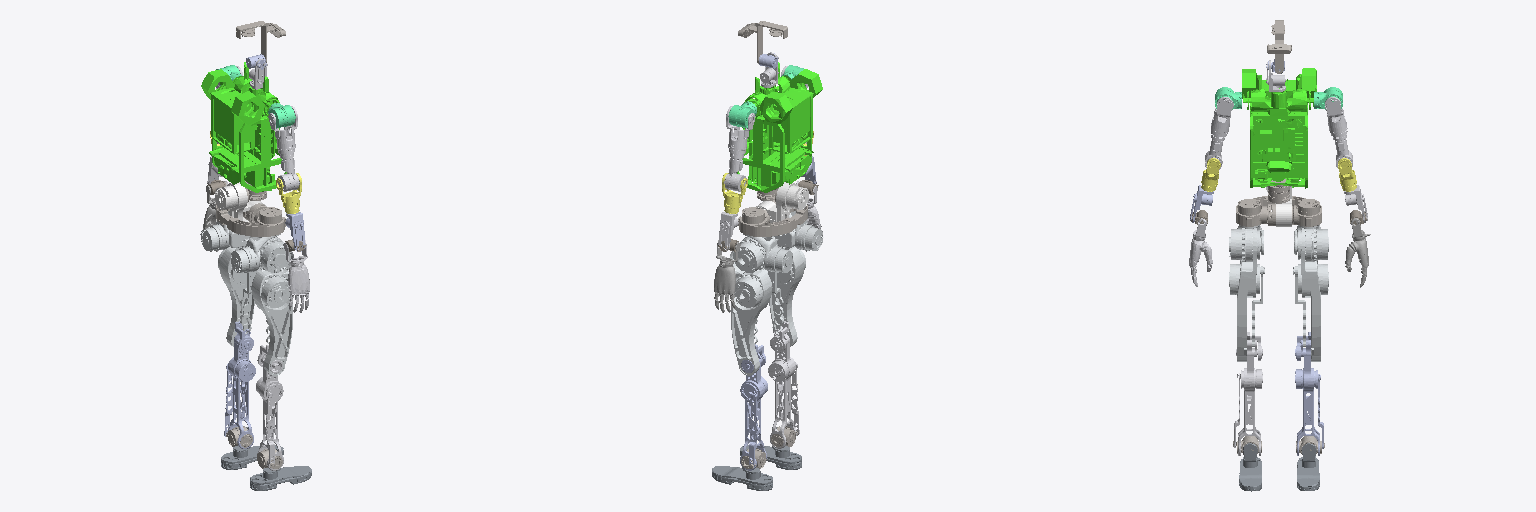
--- Render facts (derived) ---
Views: 3 orthographic renders of the robot side by side, from view 1: azimuth 30°, elevation 25°; view 2: azimuth 150°, elevation 25°; view 3: azimuth 270°, elevation 25°.
Model ti5_t170a with 34 links and 33 joints (12 revolute, 21 fixed), rooted at base, posed all joints at 0.
Visible links, largest first — view 1: Link_x3, Link_r3, Link_l4, Link_r4, Link_l3, base_link, Link_sr7, Link_r6, Link_x1, Link_r2, Link_r1, Link_l6 (+3 smaller); view 2: Link_x3, Link_l3, Link_r4, Link_l4, Link_r3, base_link, Link_x1, Link_sl7, Link_l6, Link_l2, Link_l1, Link_r1 (+3 smaller); view 3: Link_x3, Link_l3, Link_r3, base_link, Link_l4, Link_r4, Link_l2, Link_r2, Link_r6, Link_l6, Link_sl7, Link_sr7 (+3 smaller).
Boxes of the visible links, left/top/right/bottom form: Link_x3: left=201, top=62, right=286, bottom=192; Link_r3: left=251, top=237, right=292, bottom=375; Link_l4: left=224, top=321, right=255, bottom=448; Link_r4: left=256, top=345, right=283, bottom=470; Link_l3: left=218, top=238, right=259, bottom=346; base_link: left=216, top=203, right=285, bottom=236; Link_sr7: left=283, top=240, right=309, bottom=312; Link_r6: left=250, top=449, right=311, bottom=490; Link_x1: left=215, top=182, right=266, bottom=221; Link_r2: left=258, top=237, right=293, bottom=274; Link_r1: left=231, top=234, right=280, bottom=272; Link_l6: left=221, top=427, right=283, bottom=469; Link_x3: left=737, top=62, right=822, bottom=192; Link_l3: left=731, top=237, right=772, bottom=375; Link_r4: left=768, top=321, right=799, bottom=448; Link_l4: left=740, top=344, right=767, bottom=470; Link_r3: left=764, top=238, right=805, bottom=346; base_link: left=738, top=200, right=807, bottom=236; Link_x1: left=756, top=182, right=808, bottom=222; Link_sl7: left=714, top=240, right=740, bottom=312; Link_l6: left=712, top=449, right=772, bottom=490; Link_l2: left=730, top=237, right=765, bottom=274; Link_l1: left=743, top=234, right=792, bottom=272; Link_r1: left=789, top=211, right=823, bottom=250; Link_x3: left=1242, top=68, right=1316, bottom=188; Link_l3: left=1293, top=228, right=1328, bottom=361; Link_r3: left=1229, top=228, right=1264, bottom=361; base_link: left=1236, top=196, right=1321, bottom=226; Link_l4: left=1295, top=332, right=1323, bottom=455; Link_r4: left=1234, top=332, right=1262, bottom=455; Link_l2: left=1294, top=228, right=1328, bottom=261; Link_r2: left=1229, top=228, right=1263, bottom=261; Link_r6: left=1239, top=443, right=1261, bottom=491; Link_l6: left=1297, top=443, right=1319, bottom=490; Link_sl7: left=1345, top=218, right=1370, bottom=287; Link_sr7: left=1189, top=218, right=1212, bottom=286.
Bounding box of the posed robot: 0.3145 × 0.6462 × 1.74 m (x, y, z).
Meshes: 33 distinct files referenced, 33 mesh visuals loaded (33 binary STL).

The robot description file, URDF, robot "ti5_t170a":
<?xml version="1.0" encoding="utf-8"?>
<!-- This URDF was automatically created by SolidWorks to URDF Exporter! Originally created by Stephen Brawner ([email redacted])
     Commit Version: 1.6.0-4-g7f85cfe  Build Version: 1.6.7995.38578
     For more information, please see http://wiki.ros.org/sw_urdf_exporter -->
<robot name="ti5_t170a">
  <link name="base">
    <visual>
      <origin rpy="0 0 0" xyz="0 0 0"/>
      <geometry>
        <box size="0.001 0.001 0.001"/>
      </geometry>
    </visual>
  </link>
  <joint name="floating_base" type="fixed">
    <origin rpy="0 0 0" xyz="0 0 0"/>
    <parent link="base"/>
    <child link="base_link"/>
  </joint>
  <link name="base_link">
    <inertial>
      <origin xyz="0.0844 -0.0016463 0.00010521" rpy="0 0 0" />
      <mass value="4.50959" />
      <inertia ixx="0.038929" ixy="0.0011748" ixz="0.0006452" iyy="0.064522" iyz="5.4E-05" izz="0.1016" />
    </inertial>
    <visual>
      <origin xyz="0 0 0" rpy="0 0 0" />
      <geometry>
        <mesh filename="../meshes/base_link.STL" />
      </geometry>
      <material name="">
        <color rgba="0.77647 0.75686 0.73725 1" />
      </material>
    </visual>
    <collision>
      <origin xyz="0 0 0" rpy="0 0 0" />
      <geometry>
        <mesh filename="../meshes/base_link.STL" />
      </geometry>
    </collision>
  </link>
  <link name="Link_r1">
    <inertial>
      <origin xyz="-0.059057 -5.1688E-07 -0.049467" rpy="0 0 0" />
      <mass value="1.5552" />
      <inertia ixx="0.011882" ixy="0" ixz="0.010973" iyy="0.022637" iyz="0" izz="0.011603" />
    </inertial>
    <visual>
      <origin xyz="0 0 0" rpy="0 0 0" />
      <geometry>
        <mesh filename="../meshes/Link-r1.STL" />
      </geometry>
      <material name="">
        <color rgba="0.89804 0.91765 0.92941 1" />
      </material>
    </visual>
    <collision>
      <origin xyz="0 0 0" rpy="0 0 0" />
      <geometry>
        <mesh filename="../meshes/Link-r1.STL" />
      </geometry>
    </collision>
  </link>
  <joint name="Leg_R_1" type="revolute">
    <origin xyz="0.124 -0.10506 -0.020163" rpy="0 0 0" />
    <parent link="base_link" />
    <child link="Link_r1" />
    <axis xyz="0 0 1" />
    <limit lower="-0.78" upper="0.78" effort="32" velocity="6.39" />
  </joint>
  <link name="Link_r2">
    <inertial>
      <origin xyz="0.053855 0.026264 -1.7786E-07" rpy="0 0 0" />
      <mass value="2.69417" />
      <inertia ixx="0.0028058" ixy="0.0018587" ixz="0" iyy="0.0150965" iyz="0" izz="0.0146184" />
    </inertial>
    <visual>
      <origin xyz="0 0 0" rpy="0 0 0" />
      <geometry>
        <mesh filename="../meshes/Link-r2.STL" />
      </geometry>
      <material name="">
        <color rgba="0.89804 0.91765 0.92941 1" />
      </material>
    </visual>
    <collision>
      <origin xyz="0 0 0" rpy="0 0 0" />
      <geometry>
        <mesh filename="../meshes/Link-r2.STL" />
      </geometry>
    </collision>
  </link>
  <joint name="Leg_R_2" type="revolute">
    <origin xyz="-0.068 0 -0.09" rpy="0 0 0" />
    <parent link="Link_r1" />
    <child link="Link_r2" />
    <axis xyz="-1 0 0" />
    <limit lower="-0.78" upper="0.78" effort="32" velocity="6.39" />
  </joint>
  <link name="Link_r3">
    <inertial>
      <origin xyz="0.0065629 -0.028148 -0.18975" rpy="0 0 0" />
      <mass value="4.19635" />
      <inertia ixx="0.1455762" ixy="-0.0004795" ixz="-0.0028817" iyy="0.1443844" iyz="0.0215836" izz="0.0086753" />
    </inertial>
    <visual>
      <origin xyz="0 0 0" rpy="0 0 0" />
      <geometry>
        <mesh filename="../meshes/Link-r3.STL" />
      </geometry>
      <material name="">
        <color rgba="0.89804 0.91765 0.92941 1" />
      </material>
    </visual>
    <collision>
      <origin xyz="0 0 0" rpy="0 0 0" />
      <geometry>
        <mesh filename="../meshes/Link-r3.STL" />
      </geometry>
    </collision>
  </link>
  <joint name="Leg_R_3" type="revolute">
    <origin xyz="0.068 0.0325 0" rpy="0 0 0" />
    <parent link="Link_r2" />
    <child link="Link_r3" />
    <axis xyz="0 -1 0" />
    <limit lower="-0.17" upper="0.95" effort="94" velocity="4.61" />
  </joint>
  <link name="Link_r4">
    <inertial>
      <origin xyz="-0.0025755 -0.052397 -0.15731" rpy="0 0 0" />
      <mass value="2.64865" />
      <inertia ixx="0.1025074" ixy="0.000492" ixz="0.0011684" iyy="0.0949543" iyz="0.0210099" izz="0.0091046" />
    </inertial>
    <visual>
      <origin xyz="0 0 0" rpy="0 0 0" />
      <geometry>
        <mesh filename="../meshes/Link-r4.STL" />
      </geometry>
      <material name="">
        <color rgba="0.8902 0.8902 0.91373 1" />
      </material>
    </visual>
    <collision>
      <origin xyz="0 0 0" rpy="0 0 0" />
      <geometry>
        <mesh filename="../meshes/Link-r4.STL" />
      </geometry>
    </collision>
  </link>
  <joint name="Leg_R_4" type="revolute">
    <origin xyz="-0.00030338 0.0165 -0.42" rpy="0 0 0" />
    <parent link="Link_r3" />
    <child link="Link_r4" />
    <axis xyz="0 -1 0" />
    <limit lower="-1.7" upper="0" effort="94" velocity="4.61" />
  </joint>
  <link name="Link_r5">
    <inertial>
      <origin xyz="0.0079513 0.039273 -3.2753E-09" rpy="0 0 0" />
      <mass value="0.7704" />
      <inertia ixx="0.0020633" ixy="0.0002033" ixz="0" iyy="0.0004252" iyz="0" izz="0.0022243" />
    </inertial>
    <visual>
      <origin xyz="0 0 0" rpy="0 0 0" />
      <geometry>
        <mesh filename="../meshes/Link-r5.STL" />
      </geometry>
      <material name="">
        <color rgba="0.77647 0.75686 0.73725 1" />
      </material>
    </visual>
    <collision>
      <origin xyz="0 0 0" rpy="0 0 0" />
      <geometry>
        <mesh filename="../meshes/Link-r5.STL" />
      </geometry>
    </collision>
  </link>
  <joint name="Leg_R_5" type="revolute">
    <origin xyz="0 -0.094 -0.37" rpy="0 0 0" />
    <parent link="Link_r4" />
    <child link="Link_r5" />
    <axis xyz="0 -1 0" />
    <limit lower="-0.78" upper="0.78" effort="19.8" velocity="7.12" />
  </joint>
  <link name="Link_r6">
    <inertial>
      <origin xyz="0.0033722 0.0018226 -0.068866" rpy="0 0 0" />
      <mass value="0.87612" />
      <inertia ixx="0.005131" ixy="2.29E-05" ixz="-0.0004185" iyy="0.0075545" iyz="-0.0001351" izz="0.0030862" />
    </inertial>
    <visual>
      <origin xyz="0 0 0" rpy="0 0 0" />
      <geometry>
        <mesh filename="../meshes/Link-r6.STL" />
      </geometry>
      <material name="">
        <color rgba="0.61569 0.64314 0.67451 1" />
      </material>
    </visual>
    <collision>
      <origin xyz="0 0 0" rpy="0 0 0" />
      <geometry>
        <mesh filename="../meshes/Link-r6.STL" />
      </geometry>
    </collision>
  </link>
  <joint name="Leg_R_6" type="revolute">
    <origin xyz="0.0261 0.048 0" rpy="0 0 0" />
    <parent link="Link_r5" />
    <child link="Link_r6" />
    <axis xyz="-1 0 0" />
    <limit lower="-0.78" upper="0.78" effort="6.6" velocity="7.85" />
  </joint>
  <link name="Link_l1">
    <inertial>
      <origin xyz="-0.059057 -5.1688E-07 -0.049467" rpy="0 0 0" />
      <mass value="1.5552" />
      <inertia ixx="0.011882" ixy="0" ixz="0.010973" iyy="0.022637" iyz="0" izz="0.011603" />
    </inertial>
    <visual>
      <origin xyz="0 0 0" rpy="0 0 0" />
      <geometry>
        <mesh filename="../meshes/Link-l1.STL" />
      </geometry>
      <material name="">
        <color rgba="0.89804 0.91765 0.92941 1" />
      </material>
    </visual>
    <collision>
      <origin xyz="0 0 0" rpy="0 0 0" />
      <geometry>
        <mesh filename="../meshes/Link-l1.STL" />
      </geometry>
    </collision>
  </link>
  <joint name="Leg_L_1" type="revolute">
    <origin xyz="0.124 0.10494 -0.020164" rpy="0 0 0" />
    <parent link="base_link" />
    <child link="Link_l1" />
    <axis xyz="0 0 1" />
    <limit lower="-0.78" upper="0.78" effort="32" velocity="6.39" />
  </joint>
  <link name="Link_l2">
    <inertial>
      <origin xyz="0.053855 -0.026264 1.7786E-07" rpy="0 0 0" />
      <mass value="2.69417" />
      <inertia ixx="0.0028058" ixy="-0.0018587" ixz="0" iyy="0.0150965" iyz="0" izz="0.0146184" />
    </inertial>
    <visual>
      <origin xyz="0 0 0" rpy="0 0 0" />
      <geometry>
        <mesh filename="../meshes/Link-l2.STL" />
      </geometry>
      <material name="">
        <color rgba="0.89804 0.91765 0.92941 1" />
      </material>
    </visual>
    <collision>
      <origin xyz="0 0 0" rpy="0 0 0" />
      <geometry>
        <mesh filename="../meshes/Link-l2.STL" />
      </geometry>
    </collision>
  </link>
  <joint name="Leg_L_2" type="revolute">
    <origin xyz="-0.068 0 -0.09" rpy="0 0 0" />
    <parent link="Link_l1" />
    <child link="Link_l2" />
    <axis xyz="-1 0 0" />
    <limit lower="-0.78" upper="0.78" effort="32" velocity="6.39" />
  </joint>
  <link name="Link_l3">
    <inertial>
      <origin xyz="0.0069525 0.033309 -0.19317" rpy="0 0 0" />
      <mass value="5.45477" />
      <inertia ixx="0.2192296" ixy="0.0009774" ixz="-0.0050256" iyy="0.217301" iyz="-0.0342587" izz="0.0134237" />
    </inertial>
    <visual>
      <origin xyz="0 0 0" rpy="0 0 0" />
      <geometry>
        <mesh filename="../meshes/Link-l3.STL" />
      </geometry>
      <material name="">
        <color rgba="0.89804 0.91765 0.92941 1" />
      </material>
    </visual>
    <collision>
      <origin xyz="0 0 0" rpy="0 0 0" />
      <geometry>
        <mesh filename="../meshes/Link-l3.STL" />
      </geometry>
    </collision>
  </link>
  <joint name="Leg_L_3" type="revolute">
    <origin xyz="0.068 -0.0325 0" rpy="0 0 0" />
    <parent link="Link_l2" />
    <child link="Link_l3" />
    <axis xyz="0 -1 0" />
    <limit lower="-0.17" upper="0.959" effort="94" velocity="4.61" />
  </joint>
  <link name="Link_l4">
    <inertial>
      <origin xyz="-0.004229 0.055259 -0.12268" rpy="0 0 0" />
      <mass value="1.964604" />
      <inertia ixx="0.0551197" ixy="-0.0005167" ixz="0.0013893" iyy="0.049026" iyz="-0.0139356" izz="0.0071921" />
    </inertial>
    <visual>
      <origin xyz="0 0 0" rpy="0 0 0" />
      <geometry>
        <mesh filename="../meshes/Link-l4.STL" />
      </geometry>
      <material name="">
        <color rgba="0.79216 0.81961 0.93333 1" />
      </material>
    </visual>
    <collision>
      <origin xyz="0 0 0" rpy="0 0 0" />
      <geometry>
        <mesh filename="../meshes/Link-l4.STL" />
      </geometry>
    </collision>
  </link>
  <joint name="Leg_L_4" type="revolute">
    <origin xyz="0 -0.0165 -0.42" rpy="0 0 0" />
    <parent link="Link_l3" />
    <child link="Link_l4" />
    <axis xyz="0 -1 0" />
    <limit lower="-1.7" upper="0" effort="94" velocity="4.61" />
  </joint>
  <link name="Link_l5">
    <inertial>
      <origin xyz="-0.00071448 -0.035721 -0.00037836" rpy="0 0 0" />
      <mass value="0.67991" />
      <inertia ixx="0.0016285" ixy="-3.69E-05" ixz="2.9E-06" iyy="0.0002571" iyz="-3E-07" izz="0.0016762" />
    </inertial>
    <visual>
      <origin xyz="0 0 0" rpy="0 0 0" />
      <geometry>
        <mesh filename="../meshes/Link-l5.STL" />
      </geometry>
      <material name="">
        <color rgba="0.77647 0.75686 0.73725 1" />
      </material>
    </visual>
    <collision>
      <origin xyz="0 0 0" rpy="0 0 0" />
      <geometry>
        <mesh filename="../meshes/Link-l5.STL" />
      </geometry>
    </collision>
  </link>
  <joint name="Leg_L_5" type="revolute">
    <origin xyz="-0.00030338 0.095 -0.37" rpy="0 0 0" />
    <parent link="Link_l4" />
    <child link="Link_l5" />
    <axis xyz="0 1 0" />
    <limit lower="-0.78" upper="0.78" effort="19.8" velocity="7.12" />
  </joint>
  <link name="Link_l6">
    <inertial>
      <origin xyz="0.0012727 -0.0019876 -0.070172" rpy="0 0 0" />
      <mass value="1.1041" />
      <inertia ixx="0.00654" ixy="-4.84E-05" ixz="-0.0002952" iyy="0.0096809" iyz="0.00018" izz="0.0040415" />
    </inertial>
    <visual>
      <origin xyz="0 0 0" rpy="0 0 0" />
      <geometry>
        <mesh filename="../meshes/Link-l6.STL" />
      </geometry>
      <material name="">
        <color rgba="0.61569 0.64314 0.67451 1" />
      </material>
    </visual>
    <collision>
      <origin xyz="0 0 0" rpy="0 0 0" />
      <geometry>
        <mesh filename="../meshes/Link-l6.STL" />
      </geometry>
    </collision>
  </link>
  <joint name="Leg_L_6" type="revolute">
    <origin xyz="0.0261 -0.045 0" rpy="0 0 0" />
    <parent link="Link_l5" />
    <child link="Link_l6" />
    <axis xyz="-1 0 0" />
    <limit lower="-0.78" upper="0.78" effort="6.6" velocity="7.85" />
  </joint>
  <link name="Link_x1">
    <inertial>
      <origin xyz="0 0 0" rpy="0 0 0" />
      <mass value="1.853222" />
      <inertia ixx="0.015542" ixy="0.0077251" ixz="-0.0119762" iyy="0.0265434" iyz="-0.0061347" izz="0.0201888" />
    </inertial>
    <visual>
      <origin xyz="0 0 0" rpy="0 0 0" />
      <geometry>
        <mesh filename="../meshes/Link-x1.STL" />
      </geometry>
      <material name="">
        <color rgba="1 1 1 1" />
      </material>
    </visual>
    <collision>
      <origin xyz="0 0 0" rpy="0 0 0" />
      <geometry>
        <mesh filename="../meshes/Link-x1.STL" />
      </geometry>
    </collision>
  </link>
  <joint name="Waist_Pitch" type="fixed" dont_collapse="true">
    <origin xyz="0.124 0.050439 0.0058365" rpy="0 0 0" />
    <parent link="base_link" />
    <child link="Link_x1" />
    <axis xyz="0 1 0" />
    <limit lower="-0.08" upper="2.01" effort="50" velocity="3.14" />
  </joint>
  <link name="Link_x2">
    <inertial>
      <origin xyz="0.022098 -0.00082895 0.010821" rpy="0 0 0" />
      <mass value="1.1165227" />
      <inertia ixx="0.0014227" ixy="-5.7E-06" ixz="0.0012197" iyy="0.0042582" iyz="2.9E-06" izz="0.0038055" />
    </inertial>
    <visual>
      <origin xyz="0 0 0" rpy="0 0 0" />
      <geometry>
        <mesh filename="../meshes/Link-x2.STL" />
      </geometry>
      <material name="">
        <color rgba="0.77647 0.75686 0.73725 1" />
      </material>
    </visual>
    <collision>
      <origin xyz="0 0 0" rpy="0 0 0" />
      <geometry>
        <mesh filename="../meshes/Link-x2.STL" />
      </geometry>
    </collision>
  </link>
  <joint name="Waist_Roll" type="fixed" dont_collapse="true">
    <origin xyz="-0.0526 -0.0505 0.085" rpy="0 0 0" />
    <parent link="Link_x1" />
    <child link="Link_x2" />
    <axis xyz="-1 0 0" />
    <limit lower="-0.52" upper="0.52" effort="50" velocity="3.14" />
  </joint>
  <link name="Link_x3">
    <inertial>
      <origin xyz="-0.040271 -0.00016965 0.1667" rpy="0 0 0" />
      <mass value="8.387698" />
      <inertia ixx="0.4483836" ixy="-0.0005311" ixz="-0.0422603" iyy="0.4476692" iyz="-0.0003035" izz="0.0717941" />
    </inertial>
    <visual>
      <origin xyz="0 0 0" rpy="0 0 0" />
      <geometry>
        <mesh filename="../meshes/Link-x3.STL" />
      </geometry>
      <material name="">
        <color rgba="0.41961 1 0.27843 1" />
      </material>
    </visual>
    <collision>
      <origin xyz="0 0 0" rpy="0 0 0" />
      <geometry>
        <mesh filename="../meshes/Link-x3.STL" />
      </geometry>
    </collision>
  </link>
  <joint name="Waist_Yaw" type="fixed" dont_collapse="true">
    <origin xyz="0.0528 0 0.0495" rpy="0 0 0" />
    <parent link="Link_x2" />
    <child link="Link_x3" />
    <axis xyz="0 0 -1" />
    <limit lower="-1.44" upper="1.44" effort="50" velocity="3.14" />
  </joint>
  <link name="Link_b1">
    <inertial>
      <origin xyz="-2.0539E-14 -0.02349 0.037981" rpy="0 0 0" />
      <mass value="0.3120716" />
      <inertia ixx="0.0007872" ixy="0" ixz="1E-06" iyy="0.0006437" iyz="-0.0002444" izz="0.0002343" />
    </inertial>
    <visual>
      <origin xyz="0 0 0" rpy="0 0 0" />
      <geometry>
        <mesh filename="../meshes/Link-b1.STL" />
      </geometry>
      <material name="">
        <color rgba="0.86667 0.86667 0.8902 1" />
      </material>
    </visual>
    <collision>
      <origin xyz="0 0 0" rpy="0 0 0" />
      <geometry>
        <mesh filename="../meshes/Link-b1.STL" />
      </geometry>
    </collision>
  </link>
  <joint name="Head_Yaw" type="fixed" dont_collapse="true">
    <origin xyz="0.0025 0 0.356" rpy="0 0 0" />
    <parent link="Link_x3" />
    <child link="Link_b1" />
    <axis xyz="0 0 1" />
    <limit lower="-2.6" upper="2.6" effort="6.5" velocity="4.19" />
  </joint>
  <link name="Link_b2">
    <inertial>
      <origin xyz="0.0036955 0.016527 -7.3508E-13" rpy="0 0 0" />
      <mass value="0.270827" />
      <inertia ixx="0.0003294" ixy="2.2E-06" ixz="-4E-07" iyy="7.9E-05" iyz="1.1E-06" izz="0.0003604" />
    </inertial>
    <visual>
      <origin xyz="0 0 0" rpy="0 0 0" />
      <geometry>
        <mesh filename="../meshes/Link-b2.STL" />
      </geometry>
      <material name="">
        <color rgba="0.79216 0.81961 0.93333 1" />
      </material>
    </visual>
    <collision>
      <origin xyz="0 0 0" rpy="0 0 0" />
      <geometry>
        <mesh filename="../meshes/Link-b2.STL" />
      </geometry>
    </collision>
  </link>
  <joint name="Head_Pitch" type="fixed" dont_collapse="true">
    <origin xyz="0 -0.039 0.094" rpy="0 0 0" />
    <parent link="Link_b1" />
    <child link="Link_b2" />
    <axis xyz="0 -1 0" />
    <limit lower="-1.39" upper="0.34" effort="2.8" velocity="4.71" />
  </joint>
  <link name="Link_b3">
    <inertial>
      <origin xyz="0.0024245 -5.1187E-06 0.10151" rpy="0 0 0" />
      <mass value="0.405698" />
      <inertia ixx="0.004732" ixy="1.3E-06" ixz="0.000721" iyy="0.0056804" iyz="-3.1E-06" izz="0.0012506" />
    </inertial>
    <visual>
      <origin xyz="0 0 0" rpy="0 0 0" />
      <geometry>
        <mesh filename="../meshes/Link-b3.STL" />
      </geometry>
      <material name="">
        <color rgba="0.77647 0.75686 0.73725 1" />
      </material>
    </visual>
    <collision>
      <origin xyz="0 0 0" rpy="0 0 0" />
      <geometry>
        <mesh filename="../meshes/Link-b3.STL" />
      </geometry>
    </collision>
  </link>
  <joint name="Head_Roll" type="fixed" dont_collapse="true">
    <origin xyz="0.026 0.039 0" rpy="0 0 0" />
    <parent link="Link_b2" />
    <child link="Link_b3" />
    <axis xyz="1 0 0" />
    <limit lower="-0.78" upper="0.78" effort="2.8" velocity="4.71" />
  </joint>
  <link name="Link_sr1">
    <inertial>
      <origin xyz="-0.0017021 -0.043979 -0.00048578" rpy="0 0 0" />
      <mass value="0.78752" />
      <inertia ixx="0.0037568" ixy="-3.15E-05" ixz="-2E-07" iyy="0.0005341" iyz="0.0001125" izz="0.0033679" />
    </inertial>
    <visual>
      <origin xyz="0 0 0" rpy="0 0 0" />
      <geometry>
        <mesh filename="../meshes/Link-sr1.STL" />
      </geometry>
      <material name="">
        <color rgba="0.49804 1 0.75294 1" />
      </material>
    </visual>
    <collision>
      <origin xyz="0 0 0" rpy="0 0 0" />
      <geometry>
        <mesh filename="../meshes/Link-sr1.STL" />
      </geometry>
    </collision>
  </link>
  <joint name="Arm_R_1" type="fixed" dont_collapse="true">
    <origin xyz="0.0025 -0.128 0.314" rpy="0 0 0" />
    <parent link="Link_x3" />
    <child link="Link_sr1" />
    <axis xyz="0 1 0" />
    <limit lower="-3.14" upper="3.14" effort="30" velocity="3.56" />
  </joint>
  <link name="Link_sr2">
    <inertial>
      <origin xyz="-0.027589 -0.049076 -8.1596E-08" rpy="0 0 0" />
      <mass value="0.63502" />
      <inertia ixx="0.0080264" ixy="0.0020107" ixz="0" iyy="0.0010345" iyz="0" izz="0.008739" />
    </inertial>
    <visual>
      <origin xyz="0 0 0" rpy="0 0 0" />
      <geometry>
        <mesh filename="../meshes/Link-sr2.STL" />
      </geometry>
      <material name="">
        <color rgba="0.8902 0.8902 0.91373 1" />
      </material>
    </visual>
    <collision>
      <origin xyz="0 0 0" rpy="0 0 0" />
      <geometry>
        <mesh filename="../meshes/Link-sr2.STL" />
      </geometry>
    </collision>
  </link>
  <joint name="Arm_R_2" type="fixed" dont_collapse="true">
    <origin xyz="0.0315 -0.063 0" rpy="1.4 0 0" />
    <parent link="Link_sr1" />
    <child link="Link_sr2" />
    <axis xyz="-1 0 0" />
    <limit lower="-1.57" upper="0.52" effort="30" velocity="3.56" />
  </joint>
  <link name="Link_sr3">
    <inertial>
      <origin xyz="0.0031288 -0.040488 -8.0381E-08" rpy="0 0 0" />
      <mass value="0.52969" />
      <inertia ixx="0.0044154" ixy="-0.0006818" ixz="0" iyy="0.0004879" iyz="0" izz="0.0046694" />
    </inertial>
    <visual>
      <origin xyz="0 0 0" rpy="0 0 0" />
      <geometry>
        <mesh filename="../meshes/Link-sr3.STL" />
      </geometry>
      <material name="">
        <color rgba="0.8902 0.8902 0.91373 1" />
      </material>
    </visual>
    <collision>
      <origin xyz="0 0 0" rpy="0 0 0" />
      <geometry>
        <mesh filename="../meshes/Link-sr3.STL" />
      </geometry>
    </collision>
  </link>
  <joint name="Arm_R_3" type="fixed" dont_collapse="true">
    <origin xyz="-0.0315 -0.1425 0" rpy="0 0 0" />
    <parent link="Link_sr2" />
    <child link="Link_sr3" />
    <axis xyz="0 1 0" />
    <limit lower="-3.14" upper="3.14" effort="9.6" velocity="3.87" />
  </joint>
  <link name="Link_sr4">
    <inertial>
      <origin xyz="-0.024491 -0.040901 -8.1062E-07" rpy="0 0 0" />
      <mass value="0.42898" />
      <inertia ixx="0.0027852" ixy="0.0009316" ixz="0" iyy="0.0005126" iyz="0" izz="0.0031977" />
    </inertial>
    <visual>
      <origin xyz="0 0 0" rpy="0 0 0" />
      <geometry>
        <mesh filename="../meshes/Link-sr4.STL" />
      </geometry>
      <material name="">
        <color rgba="1 1 0.50196 1" />
      </material>
    </visual>
    <collision>
      <origin xyz="0 0 0" rpy="0 0 0" />
      <geometry>
        <mesh filename="../meshes/Link-sr4.STL" />
      </geometry>
    </collision>
  </link>
  <joint name="Arm_R_4" type="fixed" dont_collapse="true">
    <origin xyz="0.0296 -0.0975 0" rpy="0 0 0" />
    <parent link="Link_sr3" />
    <child link="Link_sr4" />
    <axis xyz="-1 0 0" />
    <limit lower="-2" upper="0" effort="9.6" velocity="3.87" />
  </joint>
  <link name="Link_sr5">
    <inertial>
      <origin xyz="8.31E-06 -0.047811 0.025033" rpy="0 0 0" />
      <mass value="0.344596" />
      <inertia ixx="0.0011507" ixy="0" ixz="0" iyy="0.0002799" iyz="-0.0003432" izz="0.000972" />
    </inertial>
    <visual>
      <origin xyz="0 0 0" rpy="0 0 0" />
      <geometry>
        <mesh filename="../meshes/Link-sr5.STL" />
      </geometry>
      <material name="">
        <color rgba="0.79216 0.81961 0.93333 1" />
      </material>
    </visual>
    <collision>
      <origin xyz="0 0 0" rpy="0 0 0" />
      <geometry>
        <mesh filename="../meshes/Link-sr5.STL" />
      </geometry>
    </collision>
  </link>
  <joint name="Arm_R_5" type="fixed" dont_collapse="true">
    <origin xyz="-0.0296 -0.1135 0" rpy="0 0 0" />
    <parent link="Link_sr4" />
    <child link="Link_sr5" />
    <axis xyz="0 -1 0" />
    <limit lower="-3.14" upper="3.14" effort="6.5" velocity="4.19" />
  </joint>
  <link name="Link_sr6">
    <inertial>
      <origin xyz="0.0022027 -0.00017848 -0.017726" rpy="0 0 0" />
      <mass value="0.285133" />
      <inertia ixx="0.0003384" ixy="2E-07" ixz="4.3E-06" iyy="0.0003762" iyz="-4E-07" izz="8.91E-05" />
    </inertial>
    <visual>
      <origin xyz="0 0 0" rpy="0 0 0" />
      <geometry>
        <mesh filename="../meshes/Link-sr6.STL" />
      </geometry>
      <material name="">
        <color rgba="0.64706 0.61961 0.58824 1" />
      </material>
    </visual>
    <collision>
      <origin xyz="0 0 0" rpy="0 0 0" />
      <geometry>
        <mesh filename="../meshes/Link-sr6.STL" />
      </geometry>
    </collision>
  </link>
  <joint name="Arm_R_6" type="fixed" dont_collapse="true">
    <origin xyz="0 -0.1155 0.039" rpy="0 0 0" />
    <parent link="Link_sr5" />
    <child link="Link_sr6" />
    <axis xyz="0 0 1" />
    <limit lower="-1.39" upper="1.39" effort="2.8" velocity="4.71" />
  </joint>
  <link name="Link_sr7">
    <inertial>
      <origin xyz="-0.01912 -0.08692 -0.0014962" rpy="0 0 0" />
      <mass value="0.097608" />
      <inertia ixx="0.0013912" ixy="0.0001845" ixz="2.7E-06" iyy="0.0001128" iyz="4.04E-05" izz="0.0014823" />
    </inertial>
    <visual>
      <origin xyz="0 0 0" rpy="0 0 0" />
      <geometry>
        <mesh filename="../meshes/Link-sr7.STL" />
      </geometry>
      <material name="">
        <color rgba="0.8902 0.8902 0.91373 1" />
      </material>
    </visual>
    <collision>
      <origin xyz="0 0 0" rpy="0 0 0" />
      <geometry>
        <mesh filename="../meshes/Link-sr7.STL" />
      </geometry>
    </collision>
  </link>
  <joint name="Arm_R_7" type="fixed" dont_collapse="true">
    <origin xyz="0.026 0 -0.0385" rpy="0 0 0" />
    <parent link="Link_sr6" />
    <child link="Link_sr7" />
    <axis xyz="-1 0 0" />
    <limit lower="-1.83" upper="0.34" effort="2.8" velocity="4.71" />
  </joint>
  <link name="Link_sl1">
    <inertial>
      <origin xyz="0.0055733 0.028256 8.6926E-06" rpy="0 0 0" />
      <mass value="0.801182" />
      <inertia ixx="0.00345" ixy="0.0001027" ixz="-5E-07" iyy="0.0005012" iyz="-2.23E-05" izz="0.0030364" />
    </inertial>
    <visual>
      <origin xyz="0 0 0" rpy="0 0 0" />
      <geometry>
        <mesh filename="../meshes/Link-sl1.STL" />
      </geometry>
      <material name="">
        <color rgba="0.49804 1 0.75294 1" />
      </material>
    </visual>
    <collision>
      <origin xyz="0 0 0" rpy="0 0 0" />
      <geometry>
        <mesh filename="../meshes/Link-sl1.STL" />
      </geometry>
    </collision>
  </link>
  <joint name="Arm_L_1" type="fixed" dont_collapse="true">
    <origin xyz="0.0025 0.128 0.314" rpy="0 0 0" />
    <parent link="Link_x3" />
    <child link="Link_sl1" />
    <axis xyz="0 -1 0" />
    <limit lower="-3.14" upper="3.14" effort="30" velocity="3.56" />
  </joint>
  <link name="Link_sl2">
    <inertial>
      <origin xyz="-0.027582 0.049076 8.1359E-08" rpy="0 0 0" />
      <mass value="0.635017" />
      <inertia ixx="0.0080264" ixy="-0.0020107" ixz="0" iyy="0.0010343" iyz="0" izz="0.0087388" />
    </inertial>
    <visual>
      <origin xyz="0 0 0" rpy="0 0 0" />
      <geometry>
        <mesh filename="../meshes/Link-sl2.STL" />
      </geometry>
      <material name="">
        <color rgba="0.8902 0.8902 0.91373 1" />
      </material>
    </visual>
    <collision>
      <origin xyz="0 0 0" rpy="0 0 0" />
      <geometry>
        <mesh filename="../meshes/Link-sl2.STL" />
      </geometry>
    </collision>
  </link>
  <joint name="Arm_L_2" type="fixed" dont_collapse="true">
    <origin xyz="0.0315 0.063 0" rpy="-1.4 0 0" />
    <parent link="Link_sl1" />
    <child link="Link_sl2" />
    <axis xyz="1 0 0" />
    <limit lower="-1.57" upper="0.52" effort="30" velocity="3.56" />
  </joint>
  <link name="Link_sl3">
    <inertial>
      <origin xyz="0.0031288 0.040488 8.0472E-08" rpy="0 0 0" />
      <mass value="0.529685" />
      <inertia ixx="0.0044154" ixy="0.0006818" ixz="0" iyy="0.0004879" iyz="0" izz="0.0046694" />
    </inertial>
    <visual>
      <origin xyz="0 0 0" rpy="0 0 0" />
      <geometry>
        <mesh filename="../meshes/Link-sl3.STL" />
      </geometry>
      <material name="">
        <color rgba="0.8902 0.8902 0.91373 1" />
      </material>
    </visual>
    <collision>
      <origin xyz="0 0 0" rpy="0 0 0" />
      <geometry>
        <mesh filename="../meshes/Link-sl3.STL" />
      </geometry>
    </collision>
  </link>
  <joint name="Arm_L_3" type="fixed" dont_collapse="true">
    <origin xyz="-0.0315 0.1425 0" rpy="0 0 0" />
    <parent link="Link_sl2" />
    <child link="Link_sl3" />
    <axis xyz="0 -1 0" />
    <limit lower="-3.14" upper="3.14" effort="9.6" velocity="3.87" />
  </joint>
  <link name="Link_sl4">
    <inertial>
      <origin xyz="-0.024491 0.040901 8.0961E-07" rpy="0 0 0" />
      <mass value="0.428975" />
      <inertia ixx="0.0027852" ixy="-0.0009316" ixz="0" iyy="0.0005126" iyz="0" izz="0.0031977" />
    </inertial>
    <visual>
      <origin xyz="0 0 0" rpy="0 0 0" />
      <geometry>
        <mesh filename="../meshes/Link-sl4.STL" />
      </geometry>
      <material name="">
        <color rgba="1 1 0.50196 1" />
      </material>
    </visual>
    <collision>
      <origin xyz="0 0 0" rpy="0 0 0" />
      <geometry>
        <mesh filename="../meshes/Link-sl4.STL" />
      </geometry>
    </collision>
  </link>
  <joint name="Arm_L_4" type="fixed" dont_collapse="true">
    <origin xyz="0.0296 0.0975 0" rpy="0 0 0" />
    <parent link="Link_sl3" />
    <child link="Link_sl4" />
    <axis xyz="1 0 0" />
    <limit lower="-2" upper="0" effort="9.6" velocity="3.87" />
  </joint>
  <link name="Link_sl5">
    <inertial>
      <origin xyz="8.3539E-06 0.047515 0.024931" rpy="0 0 0" />
      <mass value="0.34306" />
      <inertia ixx="0.0011459" ixy="-5E-07" ixz="0" iyy="0.0002768" iyz="0.0003417" izz="0.0009699" />
    </inertial>
    <visual>
      <origin xyz="0 0 0" rpy="0 0 0" />
      <geometry>
        <mesh filename="../meshes/Link-sl5.STL" />
      </geometry>
      <material name="">
        <color rgba="0.8902 0.8902 0.91373 1" />
      </material>
    </visual>
    <collision>
      <origin xyz="0 0 0" rpy="0 0 0" />
      <geometry>
        <mesh filename="../meshes/Link-sl5.STL" />
      </geometry>
    </collision>
  </link>
  <joint name="Arm_L_5" type="fixed" dont_collapse="true">
    <origin xyz="-0.0296 0.1135 0" rpy="0 0 0" />
    <parent link="Link_sl4" />
    <child link="Link_sl5" />
    <axis xyz="0 1 0" />
    <limit lower="-1.39" upper="1.39" effort="6.5" velocity="4.19" />
  </joint>
  <link name="Link_sl6">
    <inertial>
      <origin xyz="0.0048902 -7.4996E-13 -0.018085" rpy="0 0 0" />
      <mass value="0.258932" />
      <inertia ixx="0.000321" ixy="-5E-07" ixz="-4.4E-06" iyy="0.0003535" iyz="-1.6E-06" izz="7.81E-05" />
    </inertial>
    <visual>
      <origin xyz="0 0 0" rpy="0 0 0" />
      <geometry>
        <mesh filename="../meshes/Link-sl6.STL" />
      </geometry>
      <material name="">
        <color rgba="0.64706 0.61961 0.58824 1" />
      </material>
    </visual>
    <collision>
      <origin xyz="0 0 0" rpy="0 0 0" />
      <geometry>
        <mesh filename="../meshes/Link-sl6.STL" />
      </geometry>
    </collision>
  </link>
  <joint name="Arm_L_6" type="fixed" dont_collapse="true">
    <origin xyz="0 0.1155 0.039066" rpy="0 0 0" />
    <parent link="Link_sl5" />
    <child link="Link_sl6" />
    <axis xyz="0 0 1" />
    <limit lower="-1.39" upper="1.39" effort="2.8" velocity="4.71" />
  </joint>
  <link name="Link_sl7">
    <inertial>
      <origin xyz="-0.017596 0.098899 -0.0066609" rpy="0 0 0" />
      <mass value="0.13125" />
      <inertia ixx="0.0020734" ixy="-0.000241" ixz="7E-07" iyy="7.9781E-05" iyz="-0.0001434" izz="0.0021595" />
    </inertial>
    <visual>
      <origin xyz="0 0 0" rpy="0 0 0" />
      <geometry>
        <mesh filename="../meshes/Link-sl7.STL" />
      </geometry>
      <material name="">
        <color rgba="0.75294 0.75294 0.75294 1" />
      </material>
    </visual>
    <collision>
      <origin xyz="0 0 0" rpy="0 0 0" />
      <geometry>
        <mesh filename="../meshes/Link-sl7.STL" />
      </geometry>
    </collision>
  </link>
  <joint name="Arm_L_7" type="fixed" dont_collapse="true">
    <origin xyz="0.026 0 -0.0385" rpy="0 0 0" />
    <parent link="Link_sl6" />
    <child link="Link_sl7" />
    <axis xyz="1 0 0" />
    <limit lower="-1.83" upper="0.34" effort="2.8" velocity="4.71" />
  </joint>
</robot>
